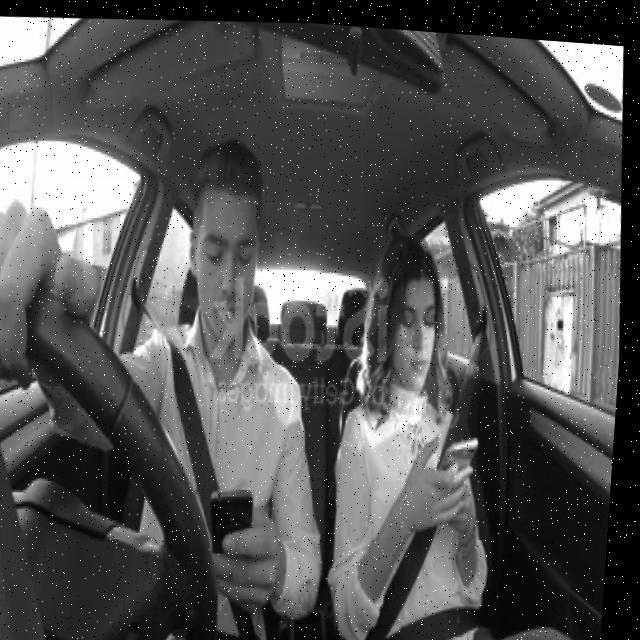PhoneCall: (212, 478, 267, 566), (440, 428, 488, 488)
